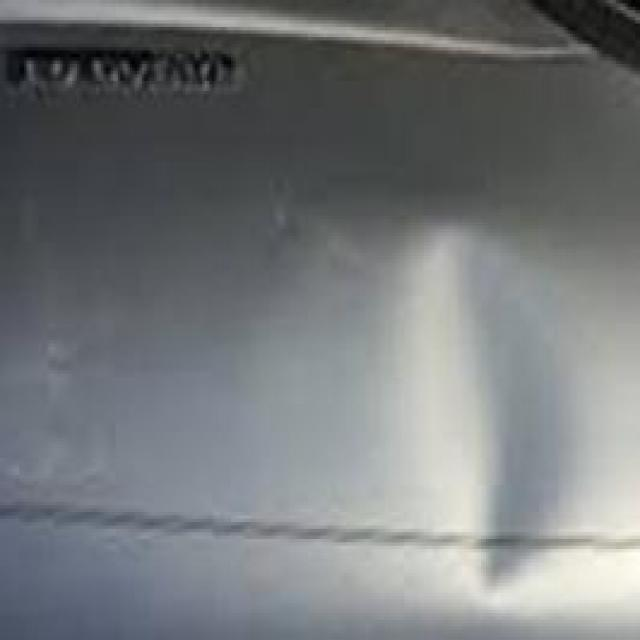dent: (403, 222, 615, 613)
